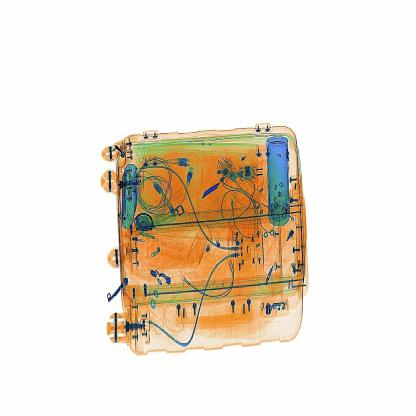pliers: (198, 174, 230, 209)
